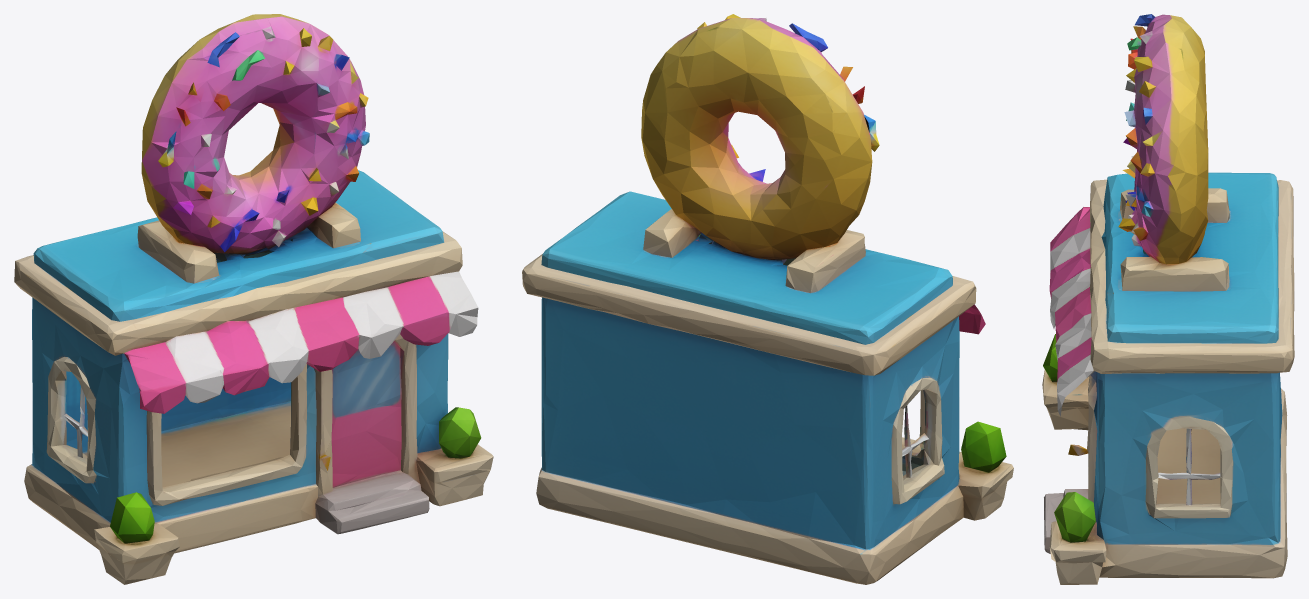
Rendered from donut_shop.glb.
The picture shows the model from 3 angles, left to right: view 1: azimuth 30°, elevation 25°; view 2: azimuth 150°, elevation 25°; view 3: azimuth 270°, elevation 25°; orthographic projection.
Visible parts, largest first — view 1: geometry_0; view 2: geometry_0; view 3: geometry_0.
Boxes of the visible parts, x1,y1,x2,y2 form: geometry_0: [14, 14, 493, 584]; geometry_0: [522, 14, 1013, 584]; geometry_0: [1042, 14, 1294, 584].
Bounding box in the file's own units: 0.825 × 0.9999 × 0.4808.
1 material, 1 textured.
